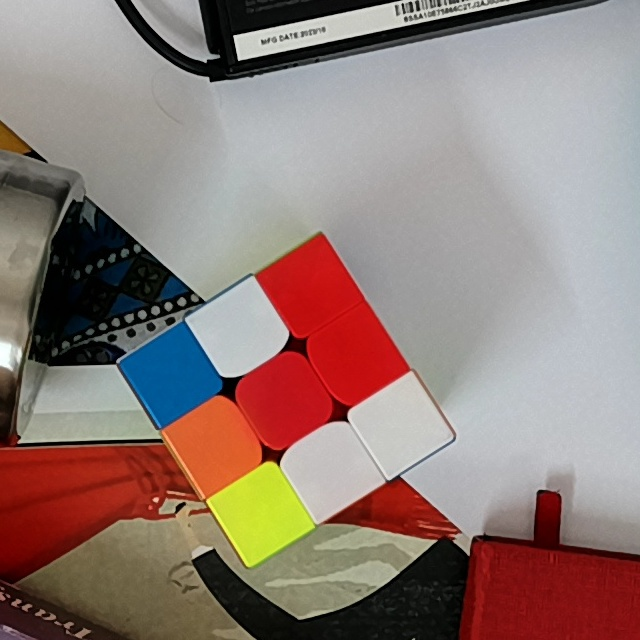tile: (254, 372, 313, 428), (328, 326, 384, 384), (304, 439, 359, 498), (373, 397, 428, 453), (281, 260, 340, 312), (232, 486, 289, 536), (212, 303, 265, 356), (148, 346, 198, 401), (190, 415, 241, 468)
